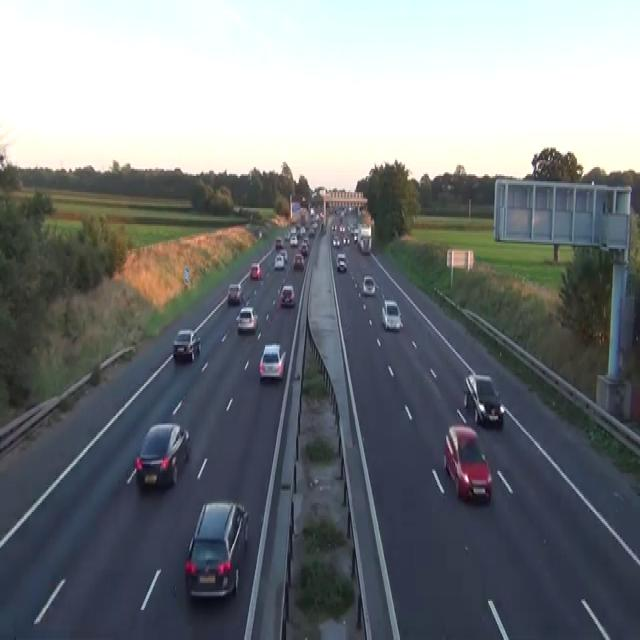Car: (184, 499, 249, 601), (443, 425, 492, 503), (134, 421, 190, 489), (463, 373, 504, 427), (259, 343, 286, 381), (172, 329, 201, 361), (381, 298, 402, 330), (235, 306, 257, 332), (279, 284, 295, 308), (227, 283, 242, 304), (362, 276, 375, 295), (336, 251, 347, 272), (250, 263, 261, 279), (293, 252, 304, 268), (274, 252, 284, 268), (279, 249, 287, 263), (300, 242, 308, 256), (332, 235, 340, 247), (275, 236, 282, 249), (289, 235, 297, 245), (232, 204, 240, 213), (308, 226, 315, 236), (284, 229, 290, 240), (446, 182, 454, 190), (343, 234, 350, 243), (339, 224, 345, 233), (331, 222, 336, 231), (310, 206, 315, 215), (353, 231, 357, 242), (300, 226, 305, 234), (258, 230, 262, 238)
Truck: (357, 224, 371, 254)
